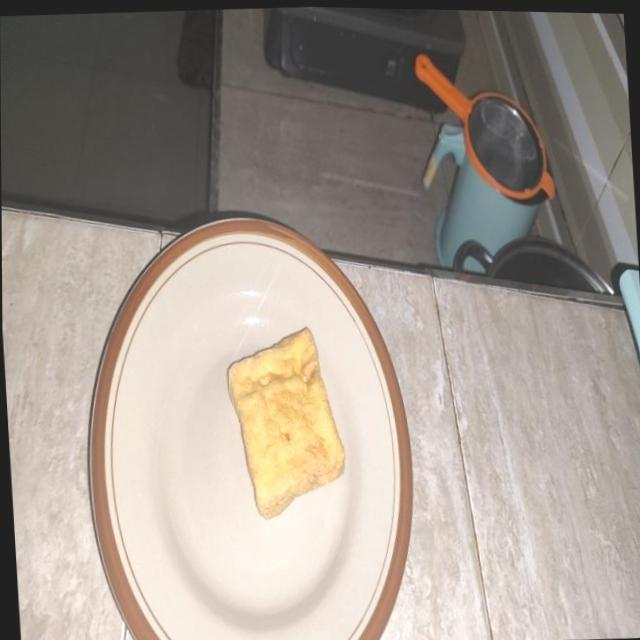tahu_goreng: (228, 328, 345, 518)
